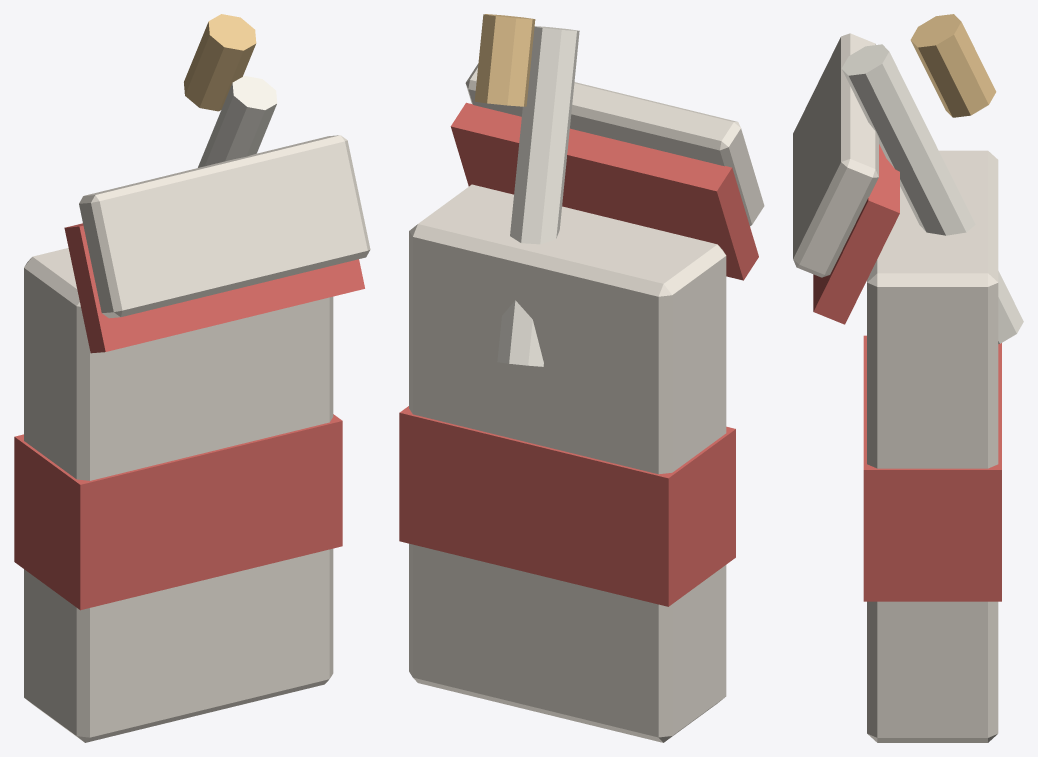
Rendered from cigarette.glb.
3 renders of one model, left to right at view 1: azimuth 30°, elevation 25°; view 2: azimuth 150°, elevation 25°; view 3: azimuth 270°, elevation 25°, orthographic. The views are drawn at different scales.
Parts seen in each view (by area): view 1: Pack, Band, Lid, LidBand, Tip, Stick; view 2: Pack, Band, LidBand, Stick, Lid, Tip; view 3: Pack, Band, Lid, Stick, LidBand, Tip.
Boxes of the visible parts, <box> form: Pack: <box>24,248,333,742</box>; Band: <box>14,414,342,610</box>; Lid: <box>79,135,370,318</box>; LidBand: <box>64,223,364,353</box>; Tip: <box>184,14,256,111</box>; Stick: <box>198,76,277,167</box>; Pack: <box>409,184,726,742</box>; Band: <box>399,406,735,606</box>; LidBand: <box>450,102,758,280</box>; Stick: <box>497,26,579,366</box>; Lid: <box>465,64,764,226</box>; Tip: <box>474,14,535,106</box>; Pack: <box>867,150,998,742</box>; Band: <box>863,335,1001,601</box>; Lid: <box>793,33,878,277</box>; Stick: <box>841,44,1023,343</box>; LidBand: <box>813,144,899,324</box>; Tip: <box>910,14,996,117</box>.
Bounding box in the file's own units: 0.092 × 0.22 × 0.0668.
